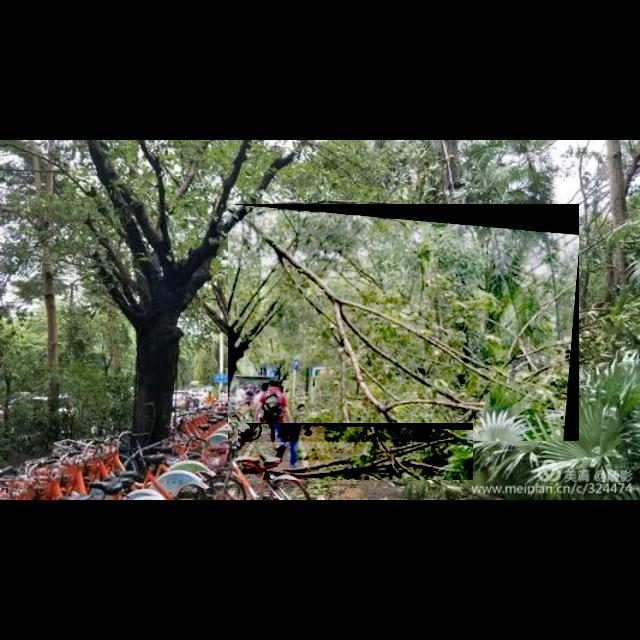fallen_tree: (228, 204, 580, 442), (238, 423, 474, 481)
